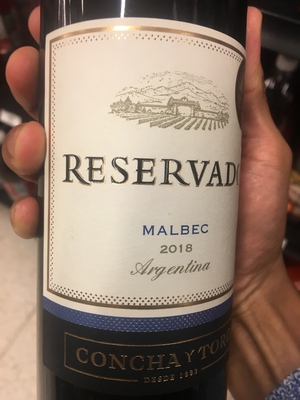reservado malbec: (36, 3, 249, 389)
